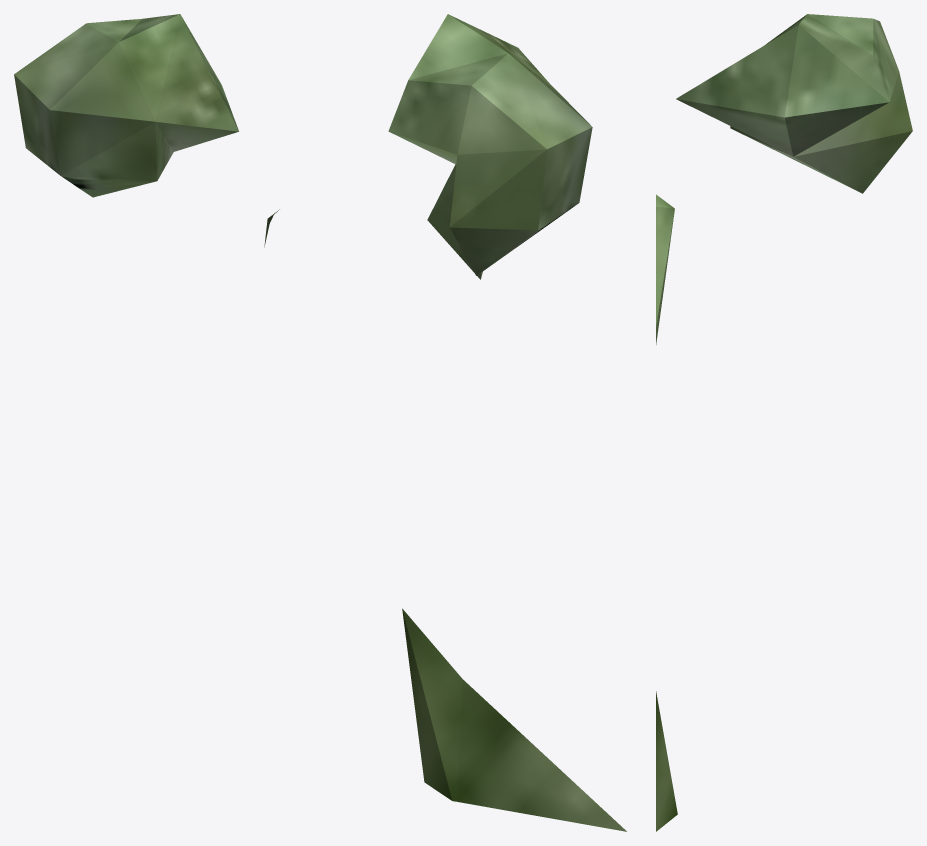
The picture shows the model from 3 angles, left to right: view 1: azimuth 30°, elevation 25°; view 2: azimuth 150°, elevation 25°; view 3: azimuth 270°, elevation 25°; orthographic projection. The views are drawn at different scales.
Bounding box in the file's own units: 0.3287 × 0.9821 × 0.2999.
1 material, 1 textured.
